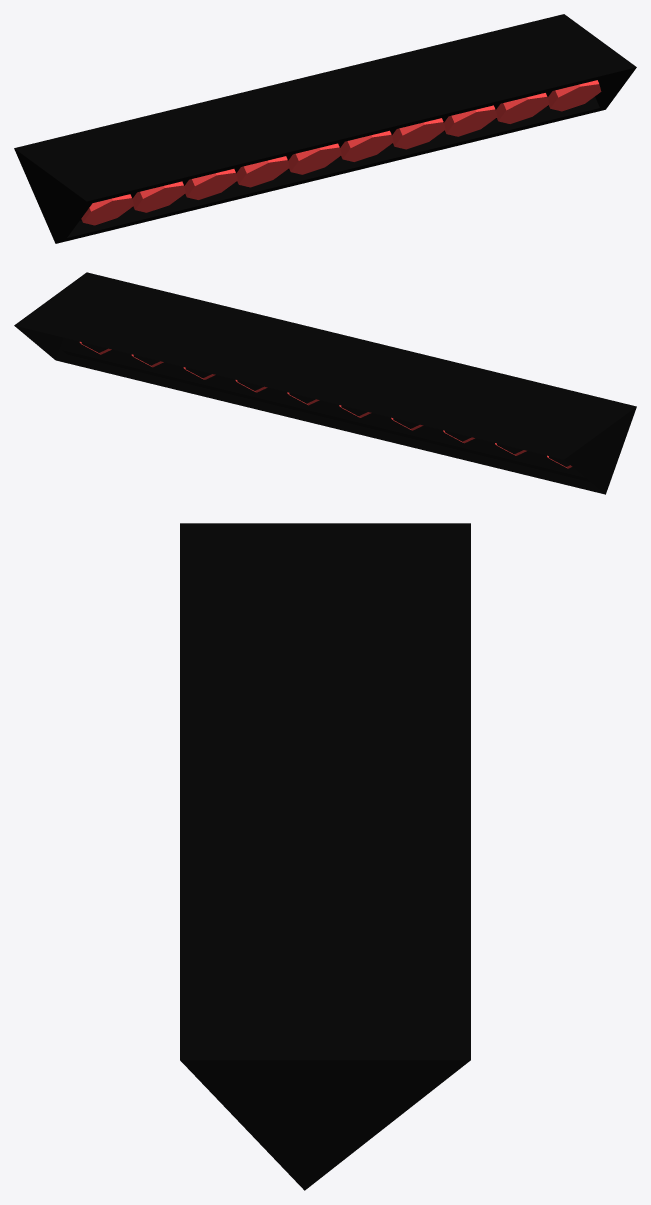
File: Countdown.fbx
3 renders of one model, top to bottom at view 1: azimuth 30°, elevation 25°; view 2: azimuth 150°, elevation 25°; view 3: azimuth 270°, elevation 25°, orthographic. The views are drawn at different scales.
Parts seen in each view (by area): view 1: Cylinder001; view 2: Cylinder001; view 3: Cylinder001.
Part boxes in pixels (x1,y1,x2,y2): Cylinder001: [14, 14, 636, 243]; Cylinder001: [14, 272, 636, 494]; Cylinder001: [180, 523, 470, 1190].
Bounding box in the file's own units: 2000 × 227 × 458.
